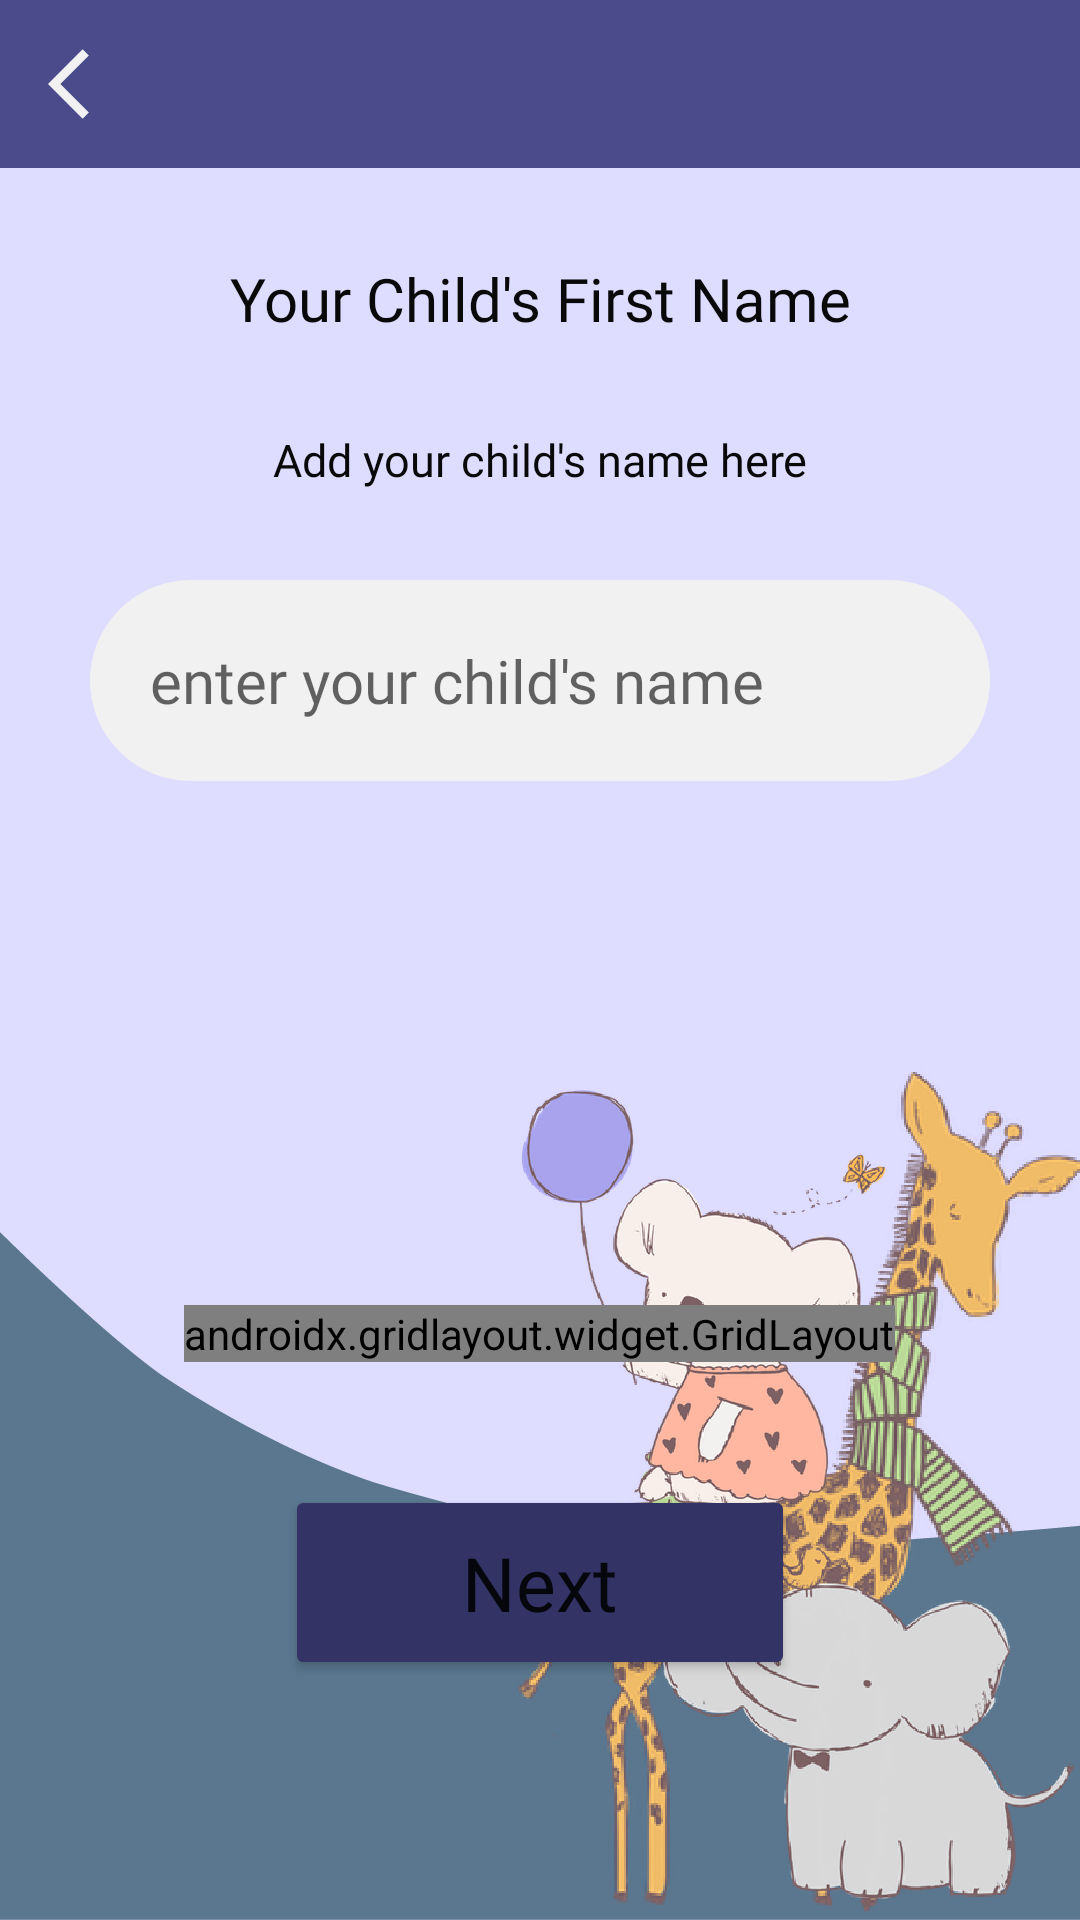

Named icons in this screenshot (1080 × 1920) and their centers, (x=x, y=y):
back: (x=68, y=84)
